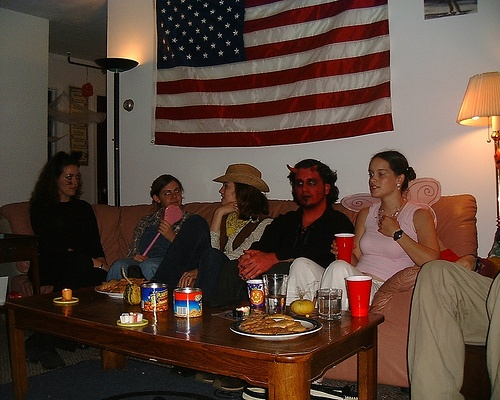head: (212, 162, 272, 211), (286, 157, 333, 211), (369, 149, 408, 201), (51, 153, 84, 204), (148, 173, 186, 210)
person: (301, 151, 448, 388), (407, 126, 498, 400), (190, 157, 347, 295), (20, 150, 108, 288), (101, 173, 207, 281)
